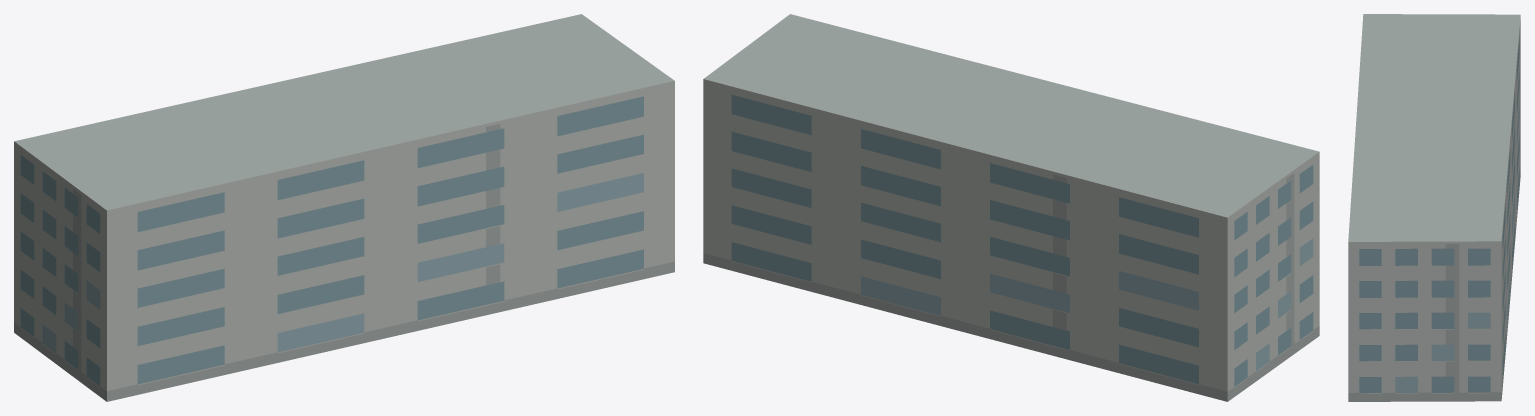
File: residential-5669191b-54e8-4ccf-8038-450b551a4b26.glb
3 renders of one model, left to right at view 1: azimuth 30°, elevation 25°; view 2: azimuth 150°, elevation 25°; view 3: azimuth 270°, elevation 25°, orthographic. The views are drawn at different scales.
Parts seen in each view (by area): view 1: residential-5669191b-54e8-4ccf-8038-450b551a4b26.tmp; view 2: residential-5669191b-54e8-4ccf-8038-450b551a4b26.tmp; view 3: residential-5669191b-54e8-4ccf-8038-450b551a4b26.tmp.
Boxes of the visible parts, x1,y1,x2,y2 form: residential-5669191b-54e8-4ccf-8038-450b551a4b26.tmp: (14, 14, 674, 401); residential-5669191b-54e8-4ccf-8038-450b551a4b26.tmp: (703, 14, 1319, 401); residential-5669191b-54e8-4ccf-8038-450b551a4b26.tmp: (1348, 14, 1520, 401).
Bounding box in the file's own units: 46.62 × 15.25 × 14.92.
